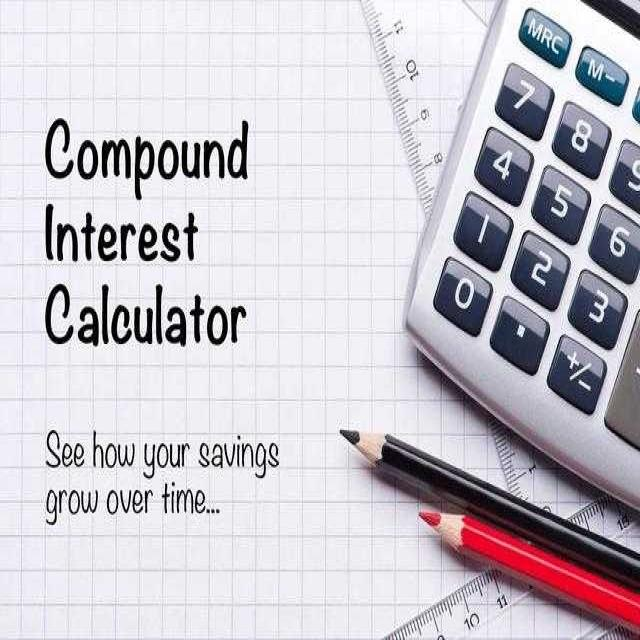Calculator: (402, 0, 639, 513)
